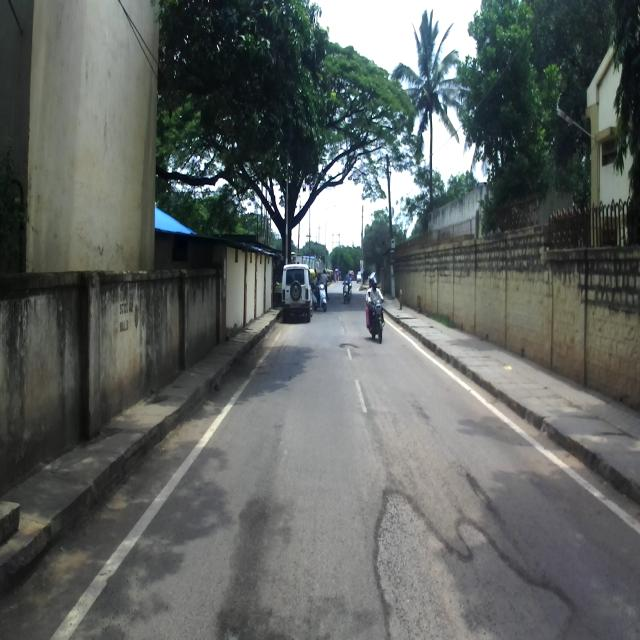car ahead at: (282, 257, 314, 323)
